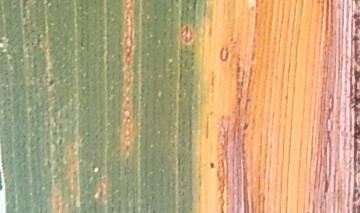tarspot: (47, 78, 56, 89), (208, 160, 217, 170)
